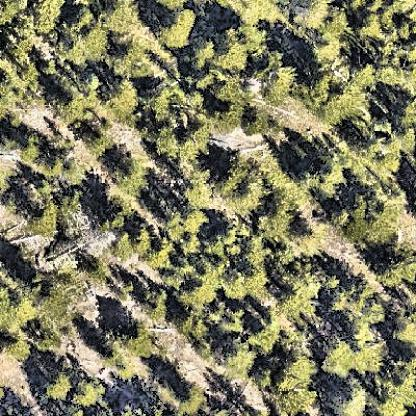tree-top: (342, 185, 406, 247), (319, 328, 393, 378), (216, 154, 272, 213), (62, 8, 112, 61), (314, 74, 369, 121), (354, 0, 412, 44), (270, 349, 320, 400), (333, 135, 391, 178), (374, 357, 416, 416), (107, 320, 158, 367), (109, 147, 153, 200), (0, 276, 44, 329), (206, 28, 258, 72), (97, 75, 144, 122), (154, 3, 200, 51), (257, 195, 300, 240), (370, 47, 416, 89), (177, 306, 217, 354), (278, 271, 316, 319), (47, 147, 93, 186), (0, 64, 43, 105), (164, 214, 204, 258), (328, 377, 373, 416), (99, 0, 145, 38), (219, 264, 264, 302), (67, 371, 108, 412), (14, 13, 54, 55), (46, 267, 84, 311), (220, 340, 261, 380), (177, 171, 218, 211), (173, 264, 213, 304), (261, 60, 297, 104), (229, 0, 292, 25), (2, 22, 39, 62), (111, 35, 151, 72), (36, 366, 74, 402), (138, 284, 174, 322), (290, 0, 330, 34), (52, 89, 88, 126), (212, 102, 250, 137), (208, 228, 243, 266), (210, 72, 249, 106), (26, 0, 63, 35), (171, 382, 209, 416), (117, 230, 151, 264), (150, 123, 182, 159), (240, 106, 276, 138), (303, 168, 341, 198), (386, 256, 416, 294), (390, 305, 416, 348), (305, 35, 340, 66), (275, 389, 315, 416), (30, 199, 59, 236), (4, 336, 34, 370), (323, 276, 353, 309), (147, 89, 176, 121), (186, 127, 214, 156), (18, 134, 44, 162), (0, 0, 22, 23), (150, 1, 190, 11)
